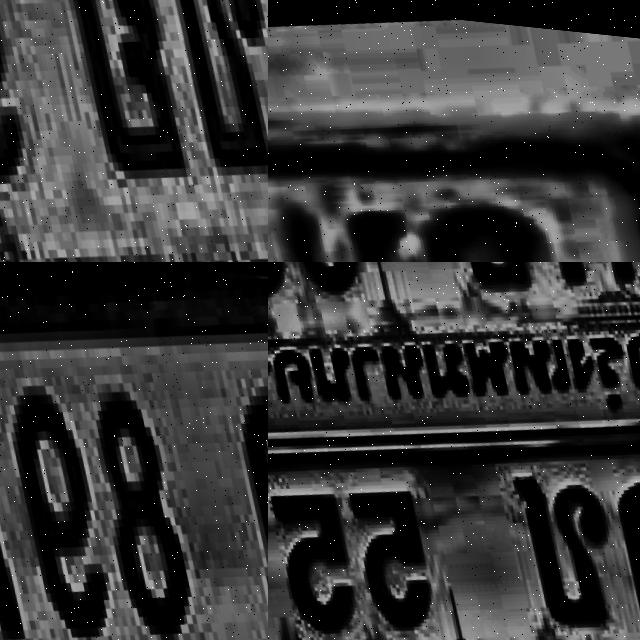license-plate: (268, 366, 640, 640), (0, 262, 268, 640), (268, 11, 640, 262), (268, 262, 640, 501), (0, 0, 268, 262)
